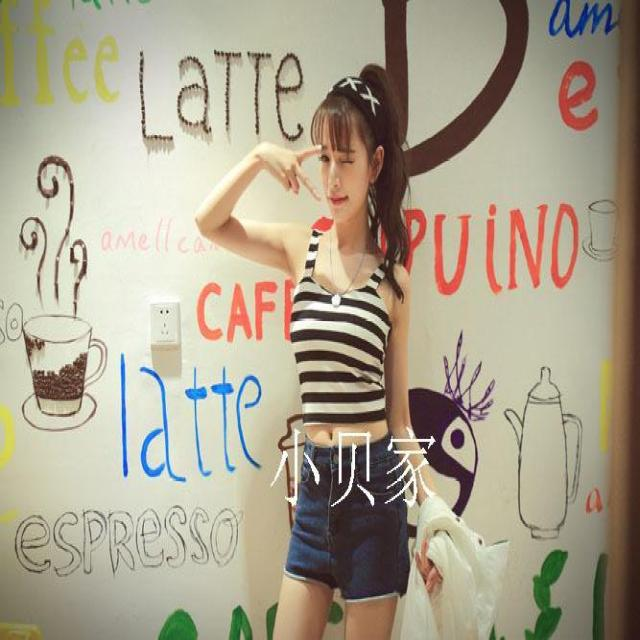shorts: (284, 434, 410, 603)
sling: (290, 230, 396, 426)
